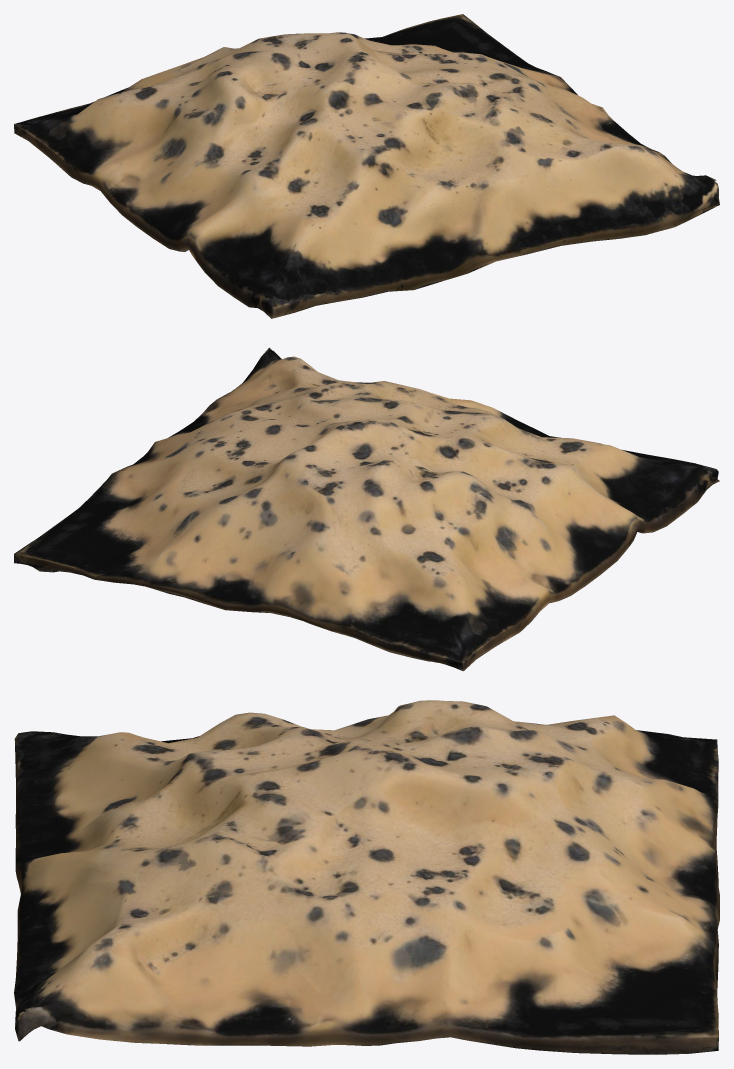
File: Soft Sandy v18.glb
3 renders of one model, top to bottom at view 1: azimuth 30°, elevation 25°; view 2: azimuth 150°, elevation 25°; view 3: azimuth 270°, elevation 25°, orthographic. The views are drawn at different scales.
Parts seen in each view (by area): view 1: Mesh0; view 2: Mesh0; view 3: Mesh0.
Part boxes in pixels (box(x1,y1,x2,y2)): Mesh0: box(14, 14, 719, 318); Mesh0: box(14, 347, 719, 671); Mesh0: box(14, 700, 719, 1054).
Size of the model in its own units: 2 by 0.4784 by 2.
Materials: 1 (1 with a texture image).
